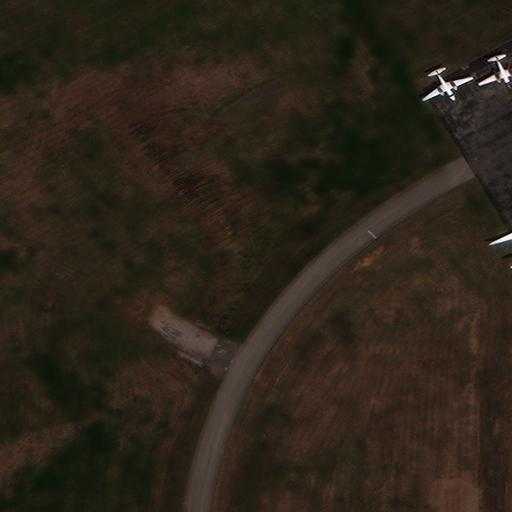Medium Civil Transport: (422, 67, 474, 101), (478, 53, 512, 87)
